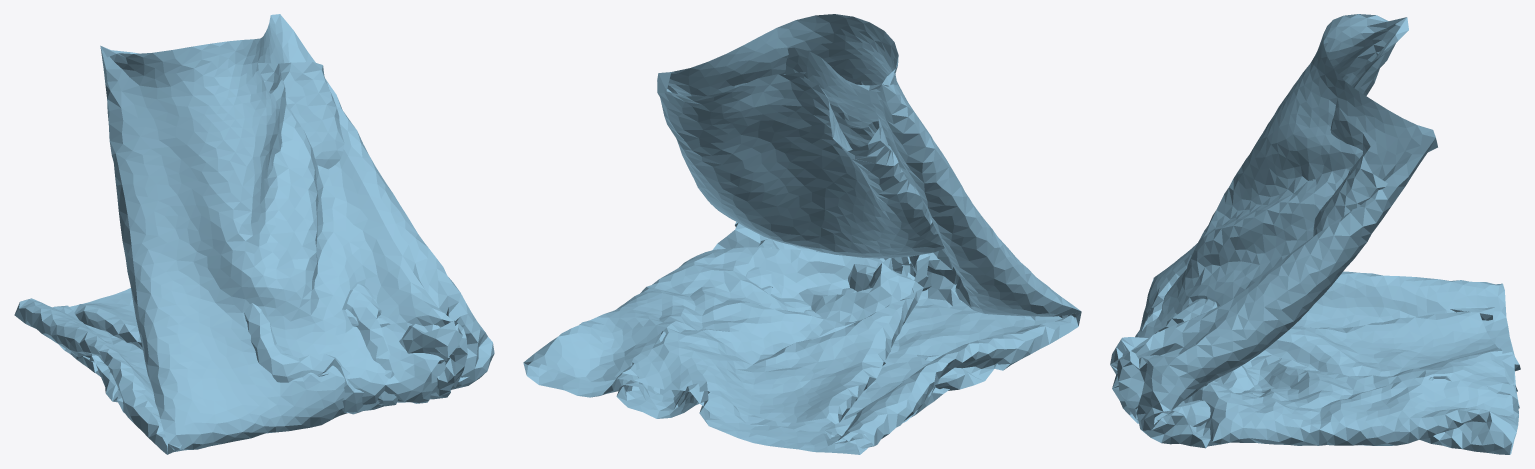
File: frame_16.glb
3 views of the same model, side by side, from view 1: azimuth 30°, elevation 25°; view 2: azimuth 150°, elevation 25°; view 3: azimuth 270°, elevation 25° (orthographic). The views are drawn at different scales.
Parts seen in each view (by area): view 1: frame_16.obj; view 2: frame_16.obj; view 3: frame_16.obj.
Boxes of the visible parts, x1,y1,x2,y2 form: frame_16.obj: (14,14,494,454); frame_16.obj: (523,14,1081,454); frame_16.obj: (1110,14,1520,454).
Bounding box in the file's own units: 0.892 × 0.8223 × 0.933.
